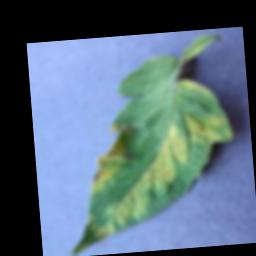Leaf_Mold: (56, 48, 242, 255), (84, 115, 140, 196)
